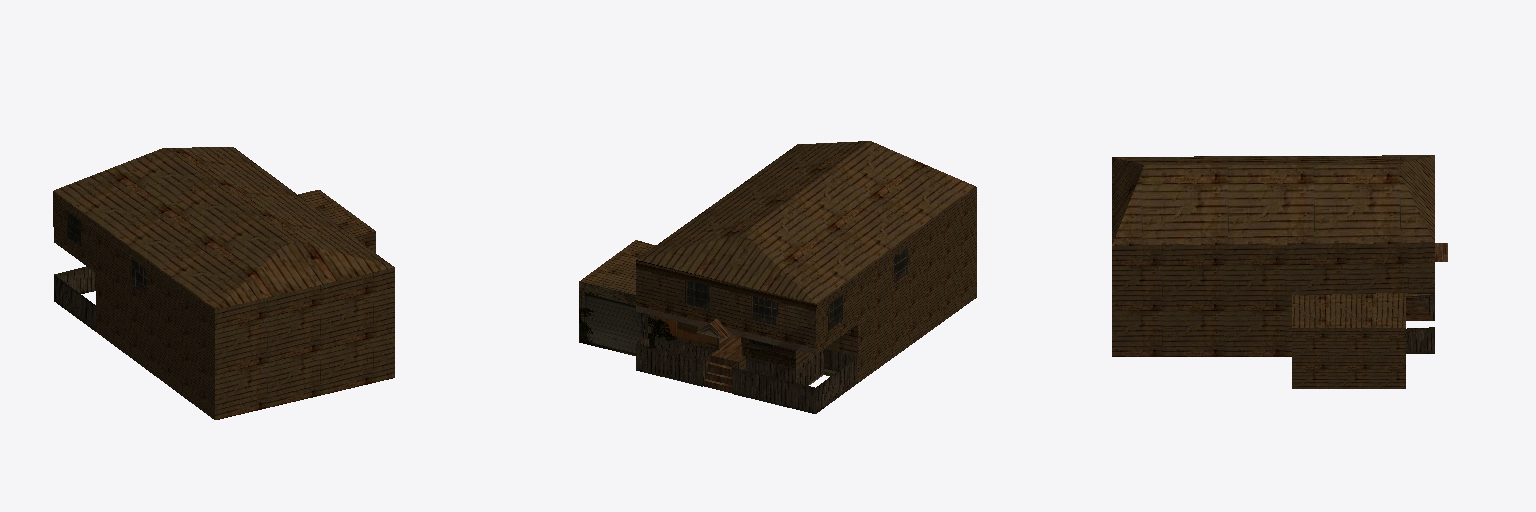
The picture shows the model from 3 angles: view 1: azimuth 30°, elevation 25°; view 2: azimuth 150°, elevation 25°; view 3: azimuth 270°, elevation 25°; orthographic projection.
Parts seen in each view (by area): view 1: Mesh polySurface88, Mesh polySurface89, Mesh polySurface90, Mesh polySurface87; view 2: Mesh polySurface88, Mesh polySurface89, Mesh polySurface87, Mesh polySurface91, Mesh polySurface90; view 3: Mesh polySurface88, Mesh polySurface89, Mesh polySurface87.
Boxes of the visible parts, box(x1,y1,x2,y2) form: Mesh polySurface88: box(53, 190, 394, 419); Mesh polySurface89: box(54, 147, 393, 309); Mesh polySurface90: box(54, 275, 95, 331); Mesh polySurface87: box(54, 266, 95, 293); Mesh polySurface88: box(579, 187, 976, 385); Mesh polySurface89: box(637, 141, 975, 303); Mesh polySurface87: box(703, 350, 815, 413); Mesh polySurface91: box(636, 344, 702, 386); Mesh polySurface90: box(816, 357, 857, 413); Mesh polySurface88: box(1112, 243, 1447, 388); Mesh polySurface89: box(1112, 155, 1434, 245); Mesh polySurface87: box(1406, 295, 1434, 320).
Size of the model in its own units: 6.62 by 3.71 by 7.65.
Materials: 9 (5 with a texture image).